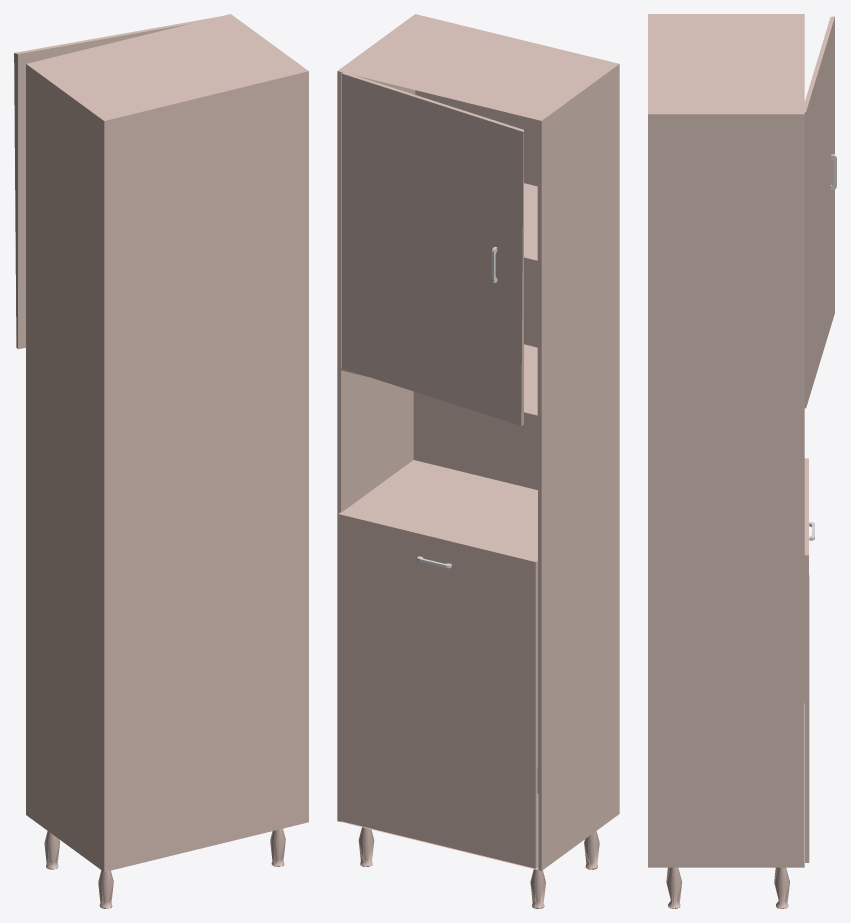
Rendered from shkafvUglu.fbx.
3 renders of one model, left to right at view 1: azimuth 30°, elevation 25°; view 2: azimuth 150°, elevation 25°; view 3: azimuth 270°, elevation 25°, orthographic.
Visible parts, largest first — view 1: big_shakf; view 2: big_shakf; view 3: big_shakf.
Boxes of the visible parts, x1,y1,x2,y2 form: big_shakf: [14, 14, 308, 908]; big_shakf: [337, 14, 619, 908]; big_shakf: [648, 14, 836, 908].
Bounding box in the file's own units: 55.85 × 208 × 44.5.
